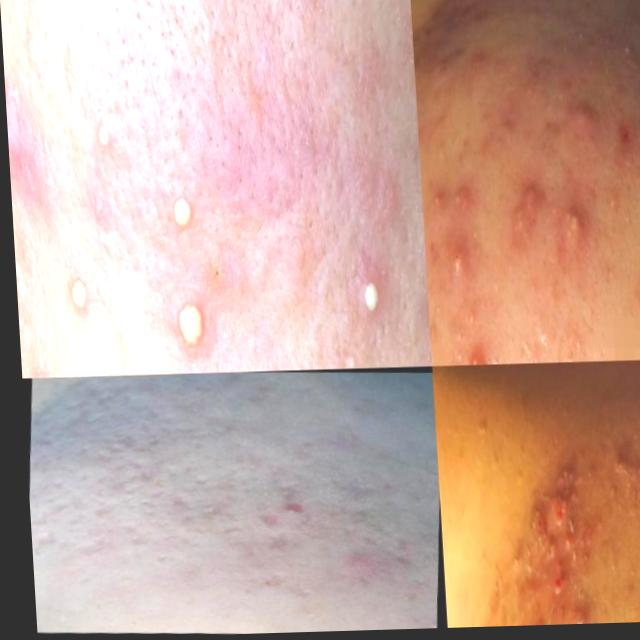8: (462, 30, 492, 83), (328, 550, 378, 577), (572, 99, 600, 143), (490, 115, 525, 149)
9: (156, 274, 217, 374), (160, 171, 203, 253), (59, 253, 91, 332), (87, 99, 122, 168), (445, 229, 465, 286), (21, 353, 50, 378)
blackheads: (3, 65, 36, 189), (555, 202, 595, 265), (318, 473, 394, 503), (506, 183, 541, 245), (539, 452, 581, 502), (111, 452, 157, 490), (514, 501, 539, 563), (460, 335, 499, 368), (58, 405, 107, 431), (191, 494, 232, 525), (544, 548, 564, 601), (25, 528, 65, 554), (84, 489, 114, 522), (253, 537, 293, 560), (158, 489, 191, 514), (68, 441, 97, 468), (545, 507, 571, 531), (250, 515, 278, 531)
whiteheads: (350, 272, 388, 327)
